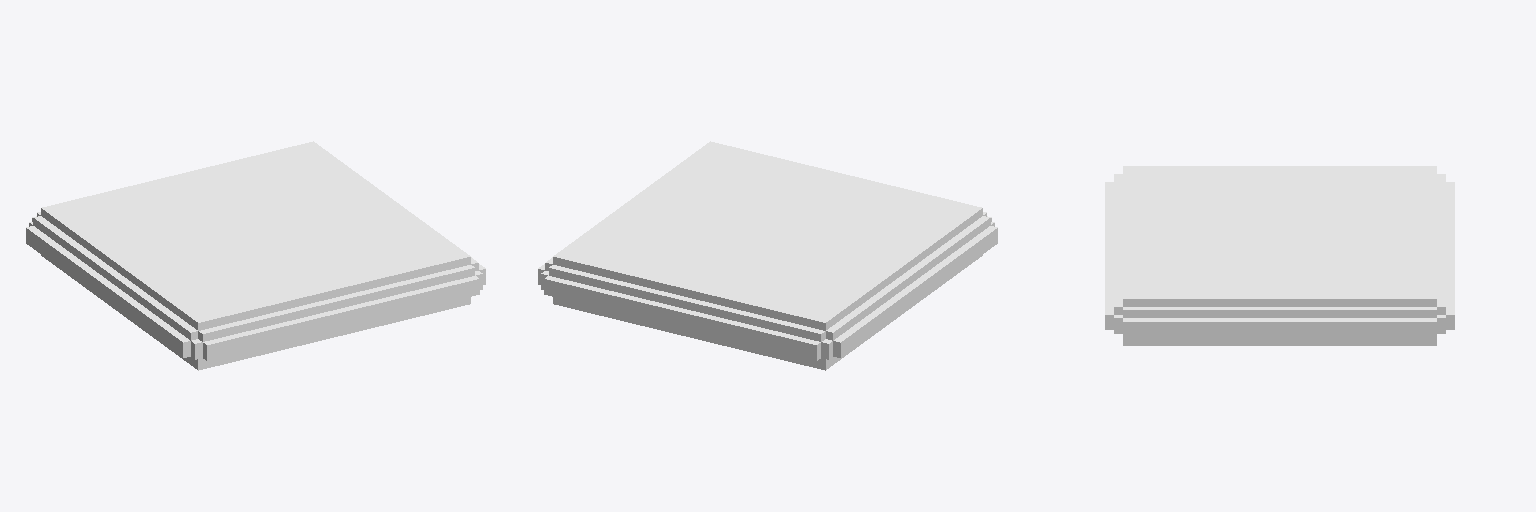
The model's file is decoracao-17.obj.
3 views of the same model, side by side, from view 1: azimuth 30°, elevation 25°; view 2: azimuth 150°, elevation 25°; view 3: azimuth 270°, elevation 25° (orthographic).
Visible parts, largest first — view 1: object 1; view 2: object 1; view 3: object 1.
Boxes of the visible parts, box(x1,y1,x2,y2) form: object 1: box(26, 141, 485, 370); object 1: box(538, 141, 997, 370); object 1: box(1105, 166, 1454, 345).
Bounding box in the file's own units: 4 × 0.6 × 4.